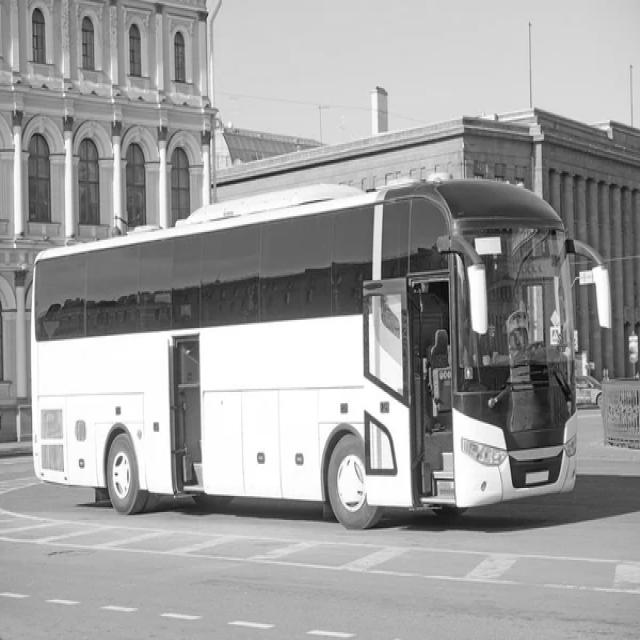Bus: (31, 179, 609, 529)
